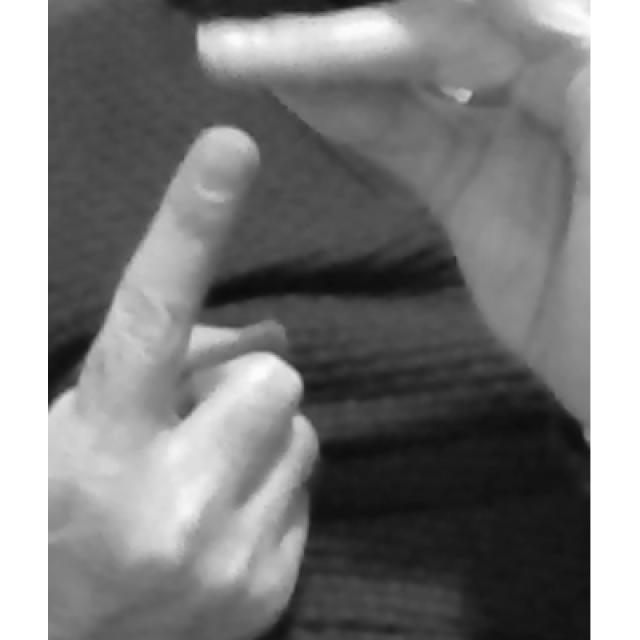I-: (49, 11, 590, 640)
